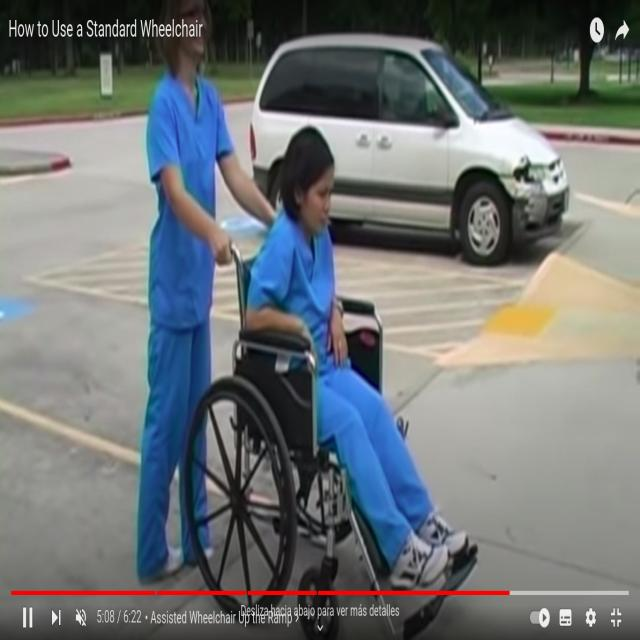wheelchairs: (190, 237, 393, 585)
